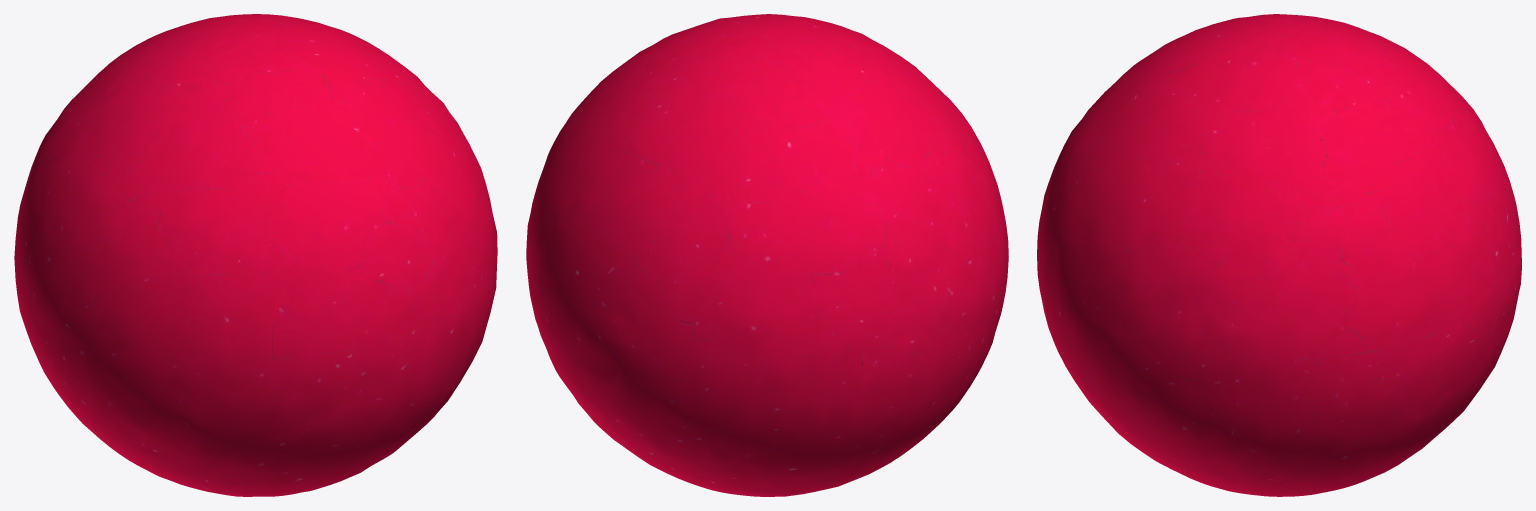
File: gumball.glb
The picture shows the model from 3 angles, left to right: view 1: azimuth 30°, elevation 25°; view 2: azimuth 150°, elevation 25°; view 3: azimuth 270°, elevation 25°; orthographic projection.
Size of what is drawn, in the model's own units: 1 by 1 by 1.
Materials: 1 (1 with a texture image).
